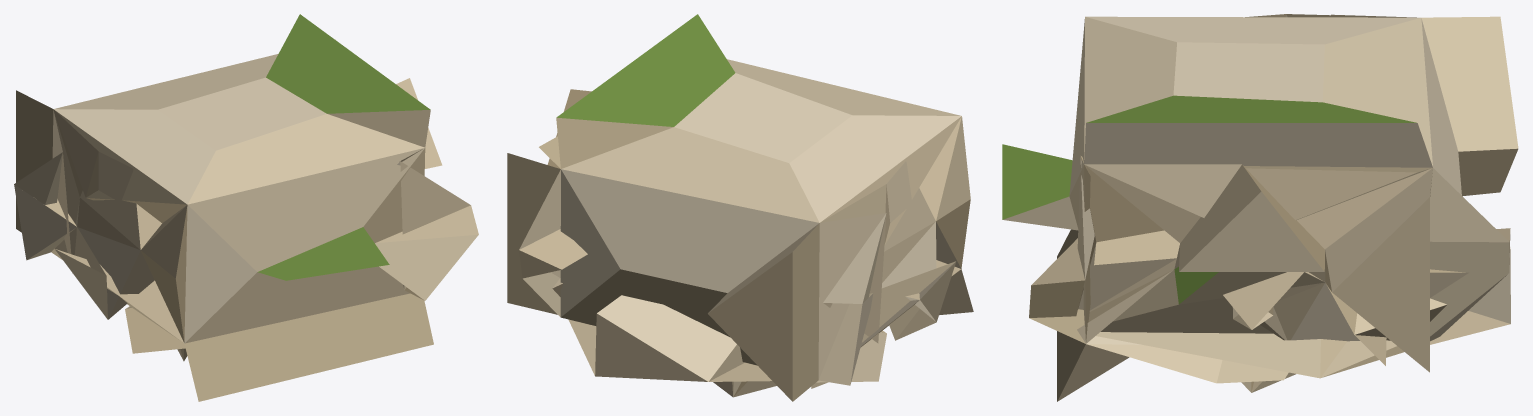
The model's file is ChunkLimestone_a.fbx.
3 views of the same model, side by side, from view 1: azimuth 30°, elevation 25°; view 2: azimuth 150°, elevation 25°; view 3: azimuth 270°, elevation 25° (orthographic). The views are drawn at different scales.
Visible parts, largest first — view 1: ChunkLimestone_a; view 2: ChunkLimestone_a; view 3: ChunkLimestone_a.
Boxes of the visible parts, x1=… form: ChunkLimestone_a: x1=14, y1=14, x2=478, y2=401; ChunkLimestone_a: x1=507, y1=14, x2=973, y2=401; ChunkLimestone_a: x1=1002, y1=14, x2=1518, y2=401.
Size of what is drawn, in the model's own units: 0.4884 by 0.3365 by 0.5014.
